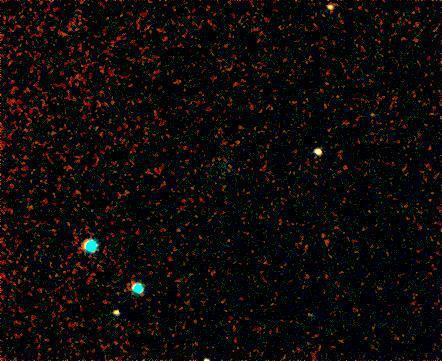star: (303, 136, 333, 166)
